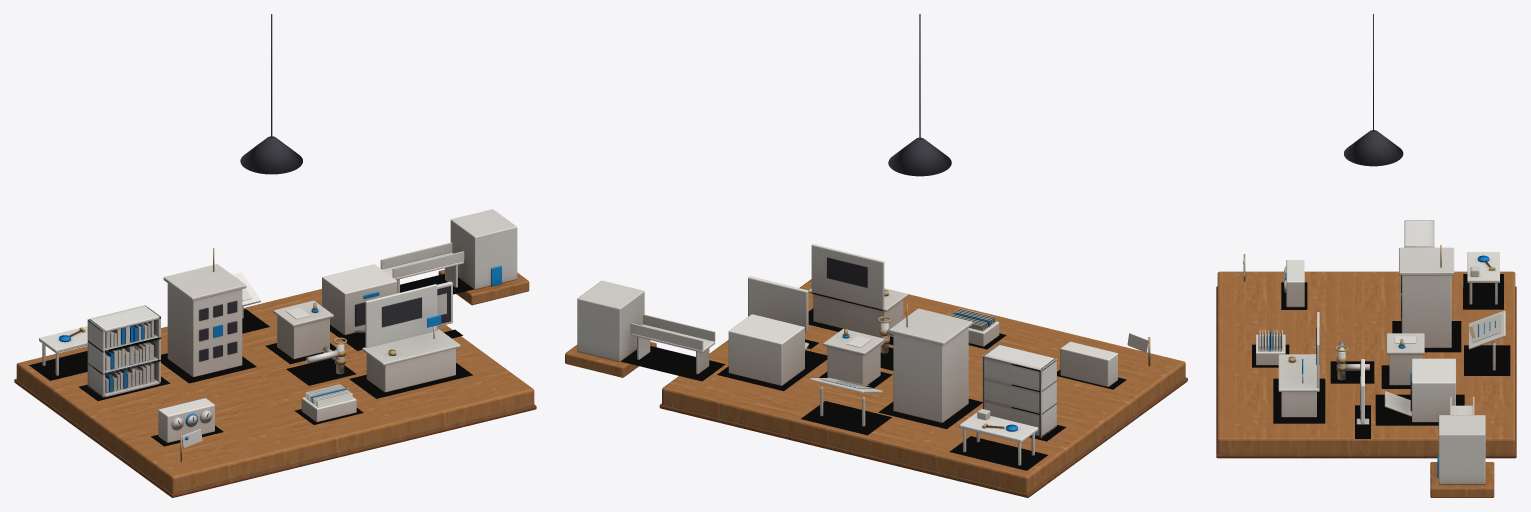
The model's file is diorama.glb.
The picture shows the model from 3 angles, left to right: view 1: azimuth 30°, elevation 25°; view 2: azimuth 150°, elevation 25°; view 3: azimuth 270°, elevation 25°; orthographic projection. The views are drawn at different scales.
Parts seen in each view (by area): view 1: base_mesh, desk_mesh, agents_mesh, bridge_mesh, shelf_mesh, shipping_mesh, approval_mesh, gauge_mesh, lamp_shade, roster_mesh, workshop_mesh, shadow_pipe (+6 smaller); view 2: base_mesh, bridge_mesh, agents_mesh, desk_mesh, shelf_mesh, shipping_mesh, approval_mesh, site_mesh, gauge_mesh, workshop_mesh, lamp_shade, shadow_bridge (+6 smaller); view 3: base_mesh, agents_mesh, bridge_mesh, shipping_mesh, desk_mesh, approval_mesh, lamp_shade, shadow_drafting, workshop_mesh, drafting_mesh, shadow_workshop, shadow_desk (+9 smaller).
Boxes of the visible parts, bbox=[...] form: base_mesh: bbox=[14, 289, 536, 497]; desk_mesh: bbox=[362, 284, 460, 392]; agents_mesh: bbox=[163, 248, 246, 377]; bridge_mesh: bbox=[380, 209, 529, 305]; shelf_mesh: bbox=[87, 305, 160, 397]; shipping_mesh: bbox=[322, 264, 397, 334]; approval_mesh: bbox=[273, 300, 333, 359]; gauge_mesh: bbox=[158, 398, 214, 442]; lamp_shade: bbox=[240, 136, 302, 174]; roster_mesh: bbox=[301, 384, 356, 422]; workshop_mesh: bbox=[39, 326, 87, 375]; shadow_pipe: bbox=[286, 358, 356, 385]; base_mesh: bbox=[659, 279, 1187, 497]; bridge_mesh: bbox=[565, 280, 715, 377]; agents_mesh: bbox=[889, 303, 972, 422]; desk_mesh: bbox=[808, 244, 907, 337]; shelf_mesh: bbox=[982, 344, 1056, 438]; shipping_mesh: bbox=[728, 314, 808, 385]; approval_mesh: bbox=[823, 328, 884, 386]; site_mesh: bbox=[748, 276, 808, 332]; gauge_mesh: bbox=[1060, 341, 1117, 386]; workshop_mesh: bbox=[959, 409, 1038, 465]; lamp_shade: bbox=[888, 137, 951, 176]; shadow_bridge: bbox=[621, 346, 725, 381]; base_mesh: bbox=[1216, 271, 1516, 458]; agents_mesh: bbox=[1399, 245, 1454, 347]; bridge_mesh: bbox=[1430, 396, 1494, 497]; shipping_mesh: bbox=[1384, 358, 1455, 422]; desk_mesh: bbox=[1278, 312, 1319, 417]; approval_mesh: bbox=[1386, 333, 1424, 385]; lamp_shade: bbox=[1344, 130, 1403, 166]; shadow_drafting: bbox=[1464, 345, 1510, 375]; workshop_mesh: bbox=[1467, 252, 1499, 304]; drafting_mesh: bbox=[1468, 310, 1505, 370]; shadow_workshop: bbox=[1463, 274, 1503, 309]; shadow_desk: bbox=[1273, 378, 1325, 423].
Bounding box in the file's own units: 7.27 × 5.6 × 4.24.
Materials: 17 (14 with a texture image).
